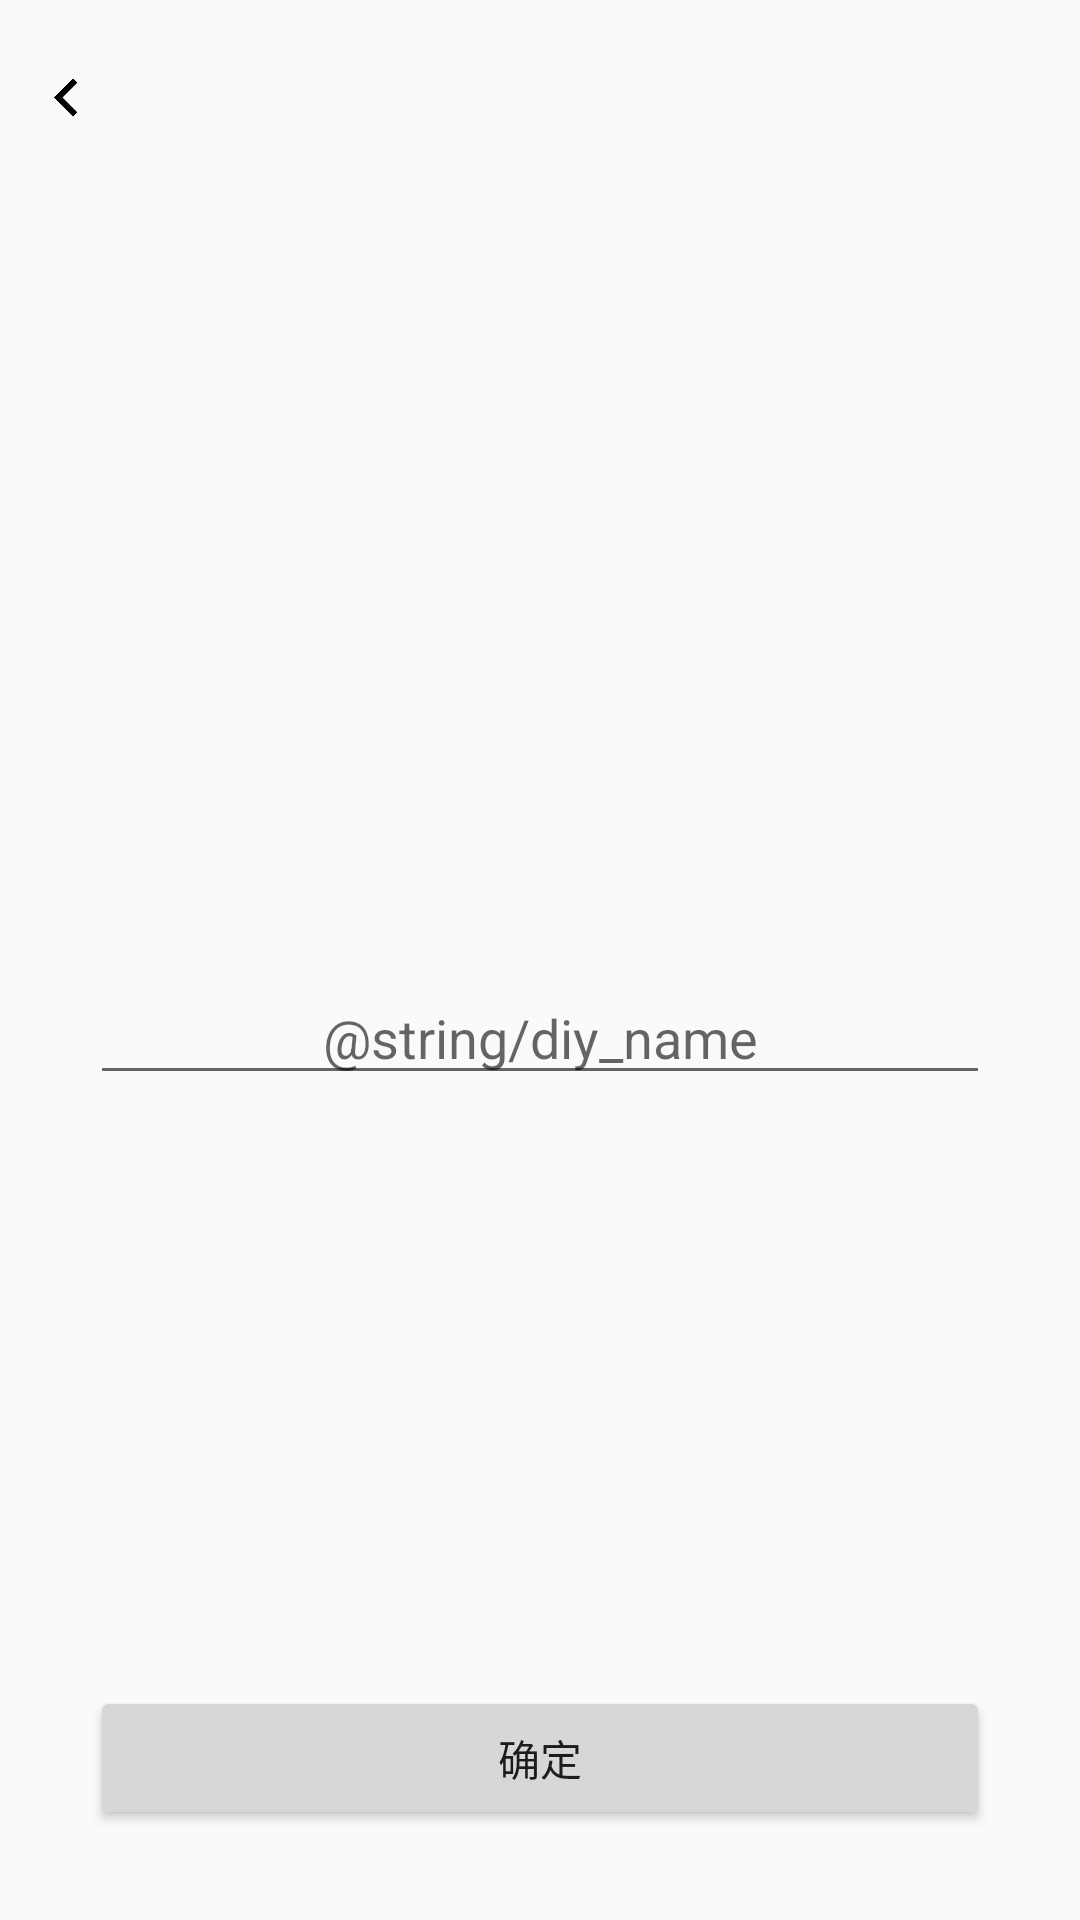

Where to tap for icons on this 1080 × 1920 app screen, as (x,y):
back arrow: (65,97)
